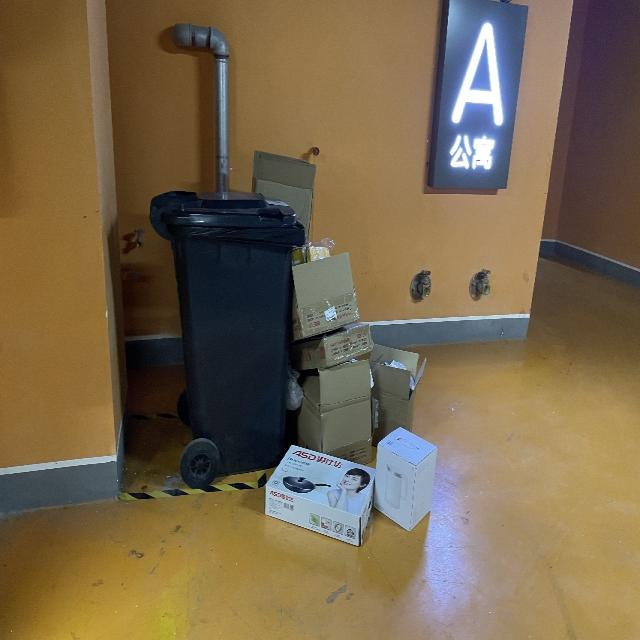garbage: (251, 149, 437, 549)
garbage_bin: (149, 188, 305, 477)
